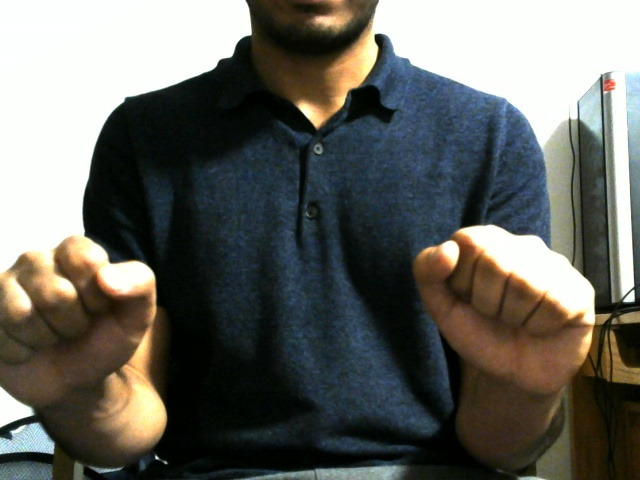can: (1, 145, 600, 447)
